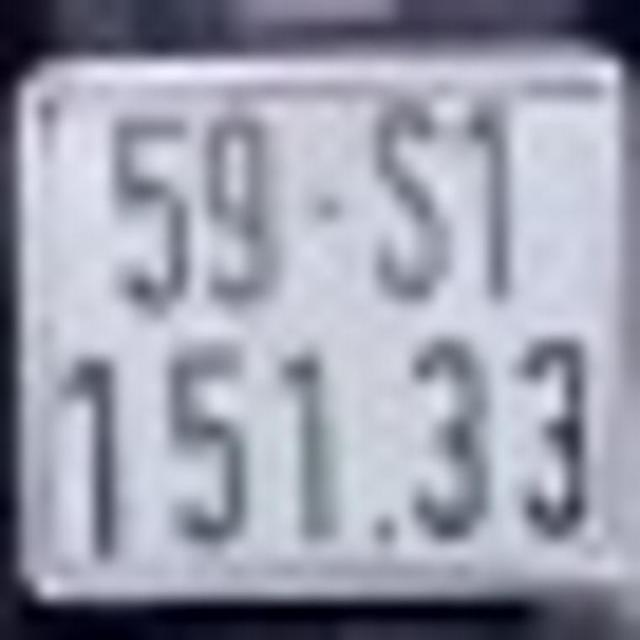1: (271, 342, 337, 544), (65, 352, 126, 555), (466, 95, 520, 300)
3: (402, 335, 492, 546), (516, 327, 592, 539)
5: (161, 338, 252, 541), (110, 112, 189, 320)
9: (200, 108, 274, 300)
S: (369, 94, 446, 300)
